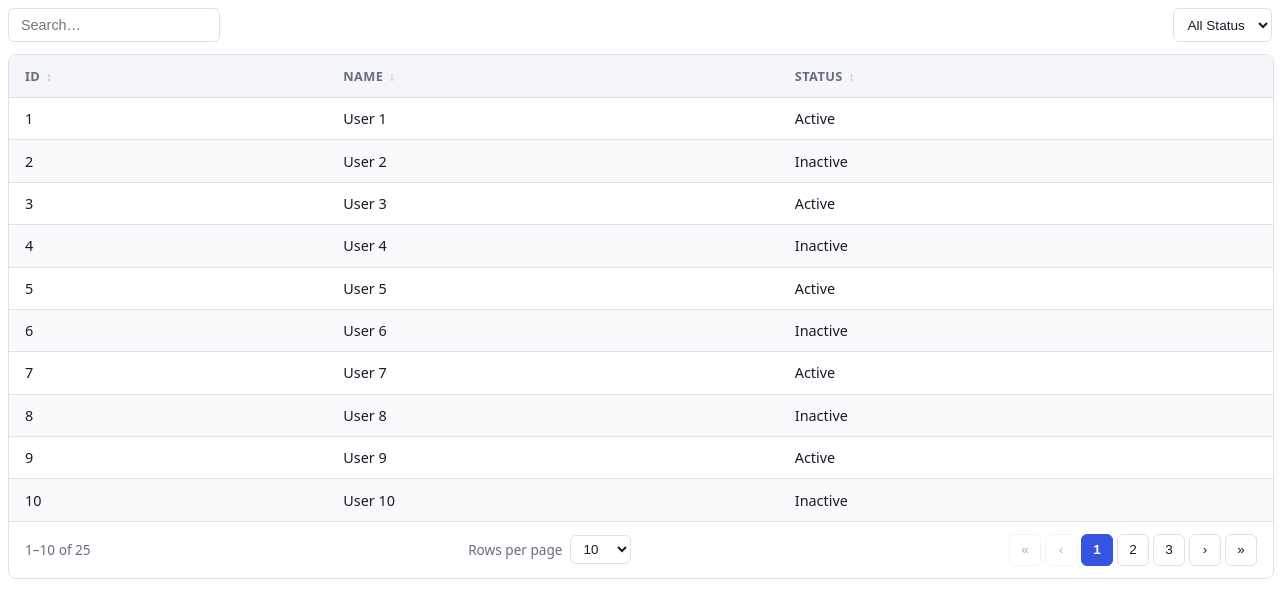
<Table> › paginates data and updates the visible page
Check: the text "1–10 of 25" is shown, box [25, 540, 91, 559]
Click the button named "Next page" at (1205, 550), box [1189, 534, 1221, 566]
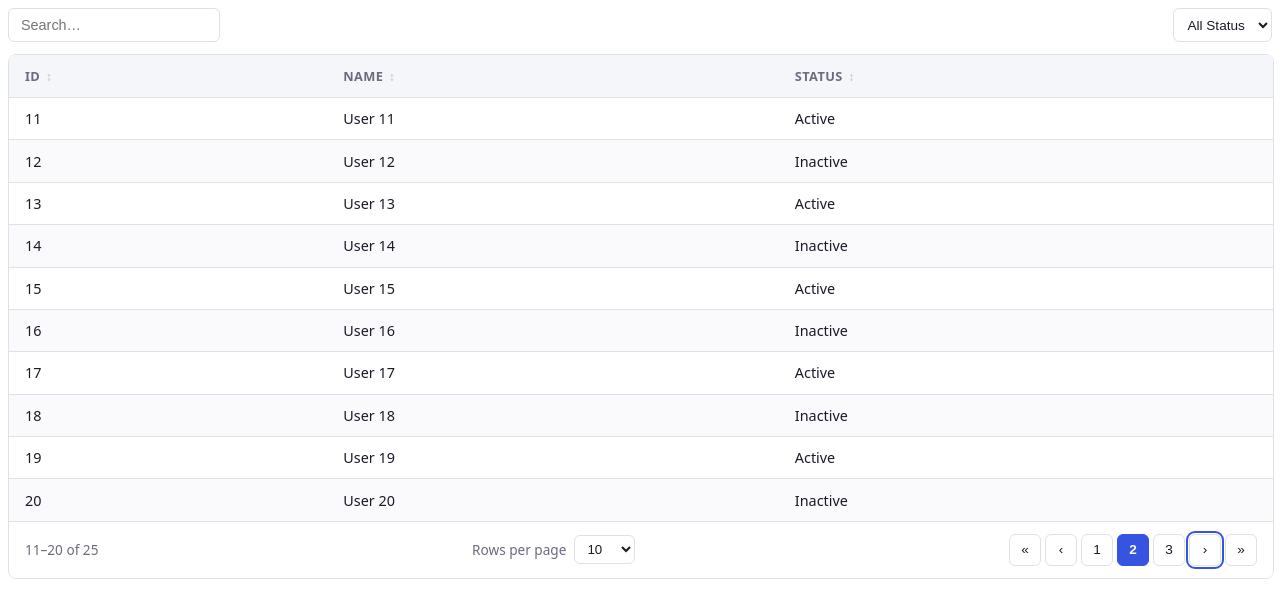
Check: the text "11–20 of 25" is shown, box [25, 540, 98, 559]
